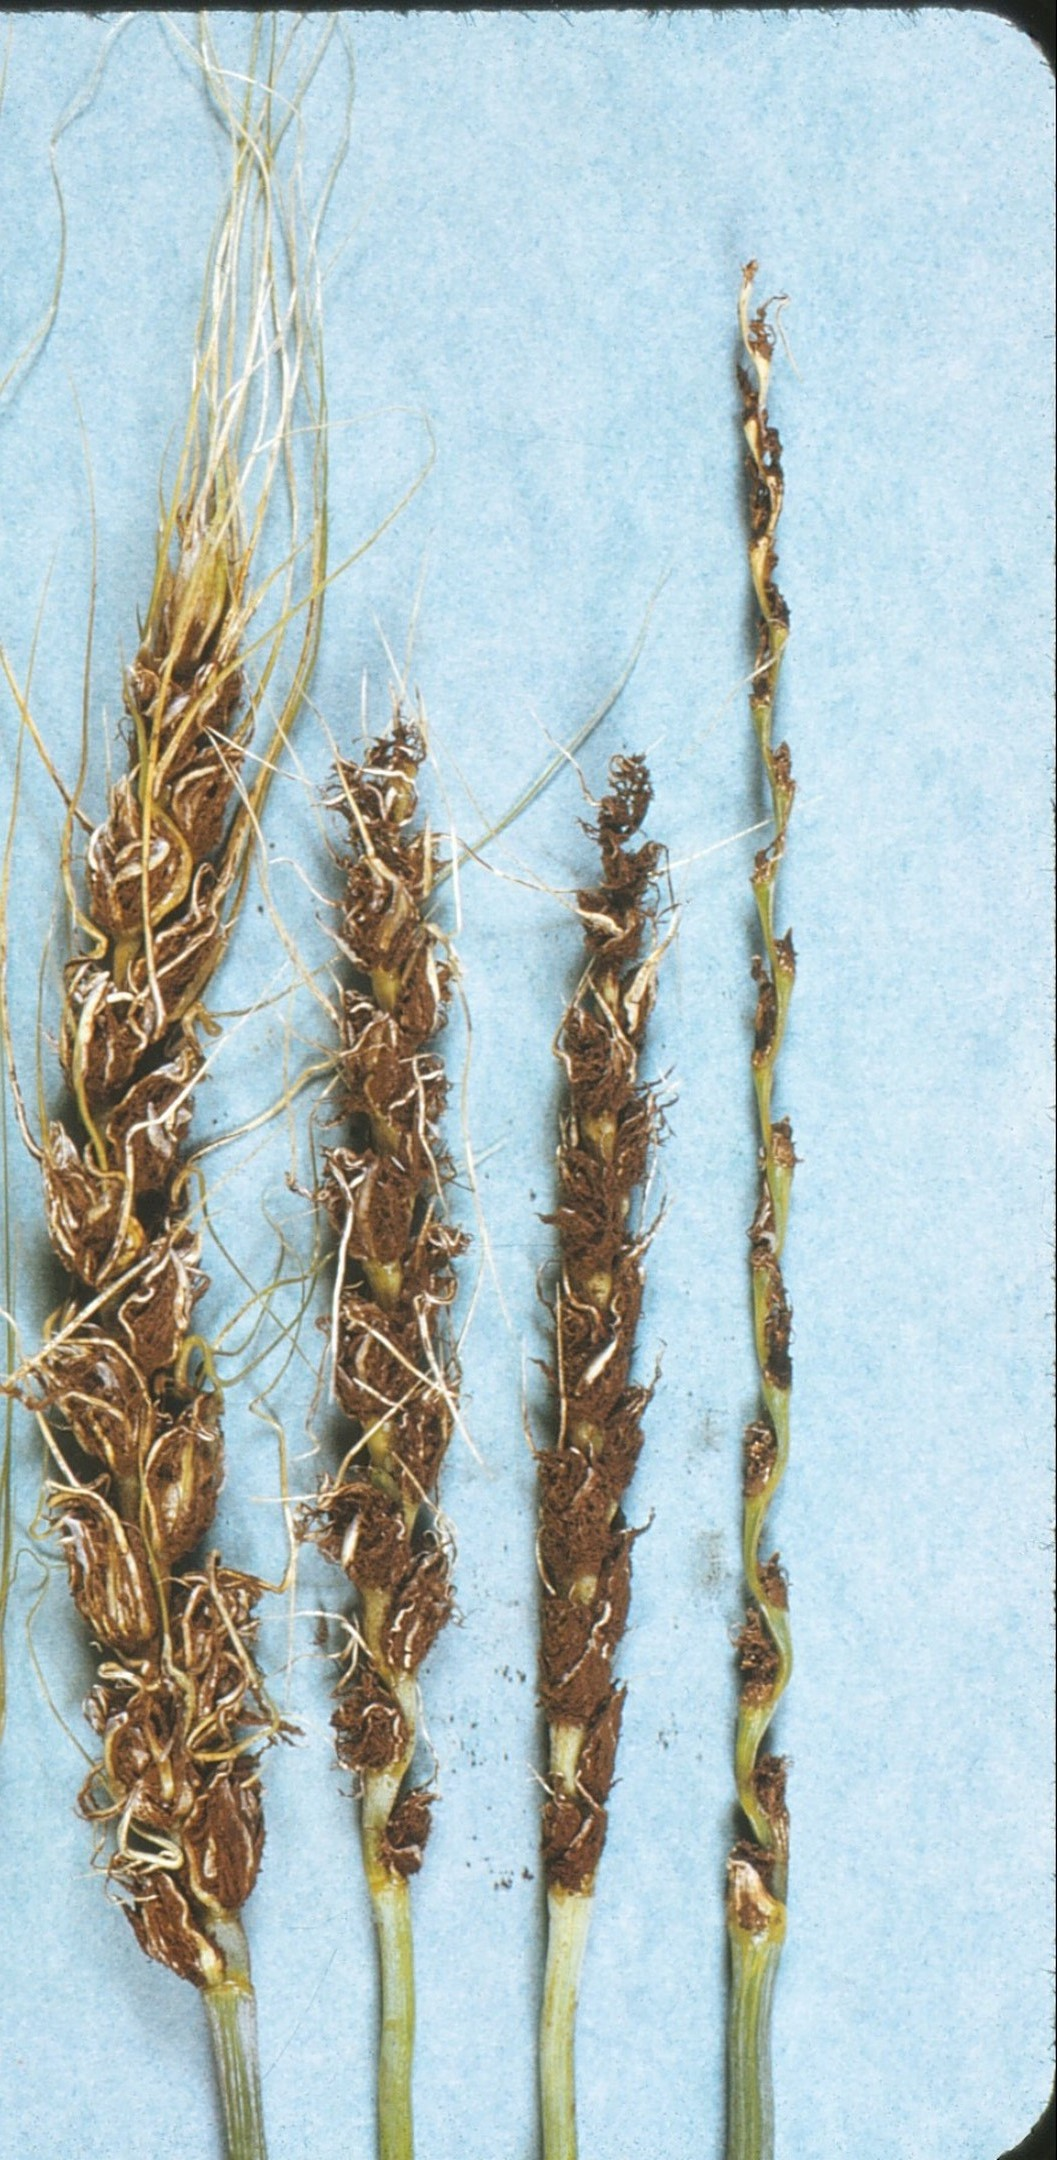Wheat Loose Smut: (311, 692, 692, 1935), (1, 496, 276, 1997)
